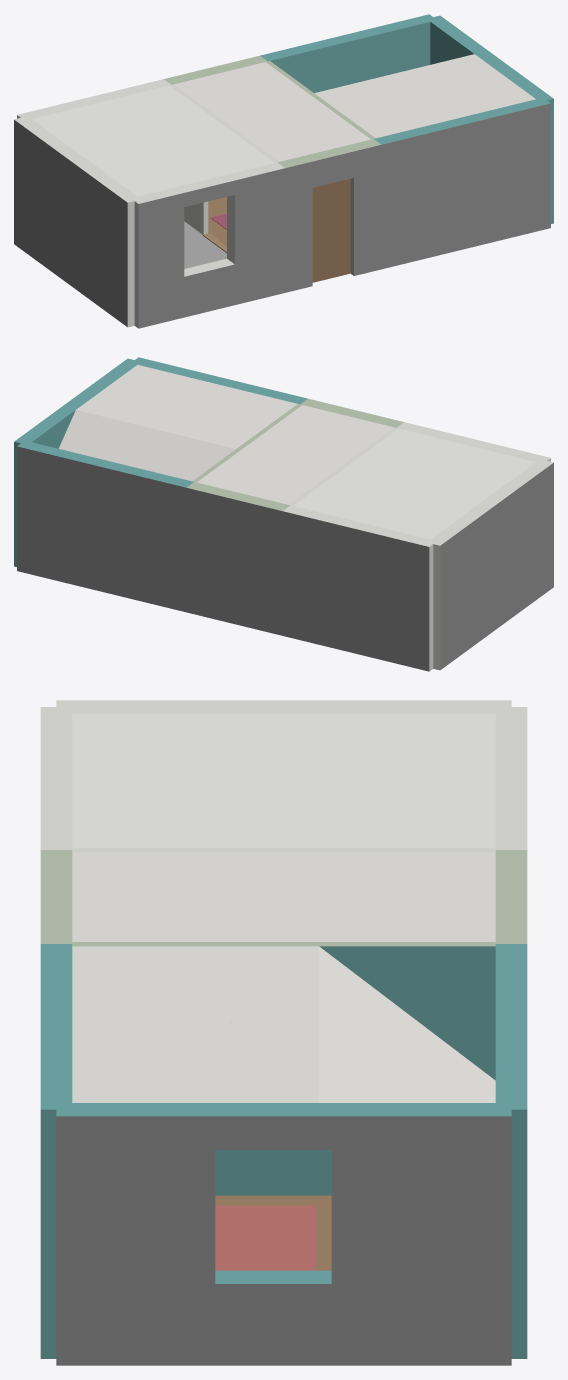
Rendered from apartment.glb.
3 renders of one model, top to bottom at view 1: azimuth 30°, elevation 25°; view 2: azimuth 150°, elevation 25°; view 3: azimuth 270°, elevation 25°, orthographic. The views are drawn at different scales.
Parts seen in each view (by area): view 1: ARCH_W_ext_s3, ARCH_W_ext_s1, ARCH_W_ext_w1, PLACEHOLDER_living_placeholder_ceiling, ARCH_bedroom_1_ceiling, ARCH_hall_ceiling, ARCH_W_ext_s2, ARCH_W_ext_n3, INT_D_entrance, ARCH_W_ext_e1, ARCH_W_ext_n1, ARCH_W_int_p1 (+4 smaller); view 2: ARCH_W_ext_n3, ARCH_W_ext_n1, ARCH_W_ext_w1, ARCH_bedroom_1_ceiling, PLACEHOLDER_living_placeholder_ceiling, ARCH_W_ext_n2, ARCH_hall_ceiling, ARCH_W_ext_e1, ARCH_W_ext_s3, ARCH_W_ext_s1, ARCH_W_ext_s2, ARCH_W_int_p2 (+1 smaller); view 3: ARCH_W_ext_e1, PLACEHOLDER_living_placeholder_ceiling, ARCH_bedroom_1_ceiling, ARCH_hall_ceiling, ARCH_W_int_p2, ARCH_W_ext_n3, ARCH_W_ext_s3, FURN_br1_bed, ARCH_W_ext_w1, ARCH_W_ext_n1, ARCH_W_ext_s1, ARCH_W_ext_n2 (+3 smaller).
Part boxes in pixels (bbox=[...]): ARCH_W_ext_s3: bbox=[374, 99, 550, 269]; ARCH_W_ext_s1: bbox=[131, 162, 285, 328]; ARCH_W_ext_w1: bbox=[14, 117, 140, 327]; PLACEHOLDER_living_placeholder_ceiling: bbox=[32, 85, 274, 196]; ARCH_bedroom_1_ceiling: bbox=[314, 54, 535, 138]; ARCH_hall_ceiling: bbox=[174, 62, 370, 161]; ARCH_W_ext_s2: bbox=[277, 139, 381, 292]; ARCH_W_ext_n3: bbox=[260, 14, 436, 92]; INT_D_entrance: bbox=[312, 178, 350, 282]; ARCH_W_ext_e1: bbox=[427, 15, 553, 223]; ARCH_W_ext_n1: bbox=[17, 79, 170, 120]; ARCH_W_int_p1: bbox=[169, 84, 279, 234]; ARCH_W_ext_n3: bbox=[17, 440, 193, 612]; ARCH_W_ext_n1: bbox=[282, 505, 436, 671]; ARCH_W_ext_w1: bbox=[427, 459, 553, 670]; ARCH_bedroom_1_ceiling: bbox=[58, 365, 297, 481]; PLACEHOLDER_living_placeholder_ceiling: bbox=[293, 428, 535, 539]; ARCH_W_ext_n2: bbox=[186, 482, 290, 635]; ARCH_hall_ceiling: bbox=[197, 405, 393, 504]; ARCH_W_ext_e1: bbox=[14, 358, 140, 566]; ARCH_W_ext_s3: bbox=[133, 357, 307, 404]; ARCH_W_ext_s1: bbox=[397, 422, 550, 463]; ARCH_W_ext_s2: bbox=[300, 398, 403, 427]; ARCH_W_int_p2: bbox=[192, 404, 301, 482]; ARCH_W_ext_e1: bbox=[56, 1103, 511, 1365]; PLACEHOLDER_living_placeholder_ceiling: bbox=[72, 713, 495, 847]; ARCH_bedroom_1_ceiling: bbox=[72, 946, 495, 1102]; ARCH_hall_ceiling: bbox=[72, 852, 495, 941]; ARCH_W_int_p2: bbox=[72, 942, 495, 1195]; ARCH_W_ext_n3: bbox=[495, 944, 527, 1358]; ARCH_W_ext_s3: bbox=[40, 944, 72, 1358]; FURN_br1_bed: bbox=[215, 1205, 315, 1270]; ARCH_W_ext_w1: bbox=[56, 700, 511, 713]; ARCH_W_ext_n1: bbox=[495, 707, 527, 849]; ARCH_W_ext_s1: bbox=[40, 707, 72, 849]; ARCH_W_ext_n2: bbox=[495, 850, 527, 943].
Size of what is drawn, in the model's own units: 9.3 by 2.6 by 4.6.
